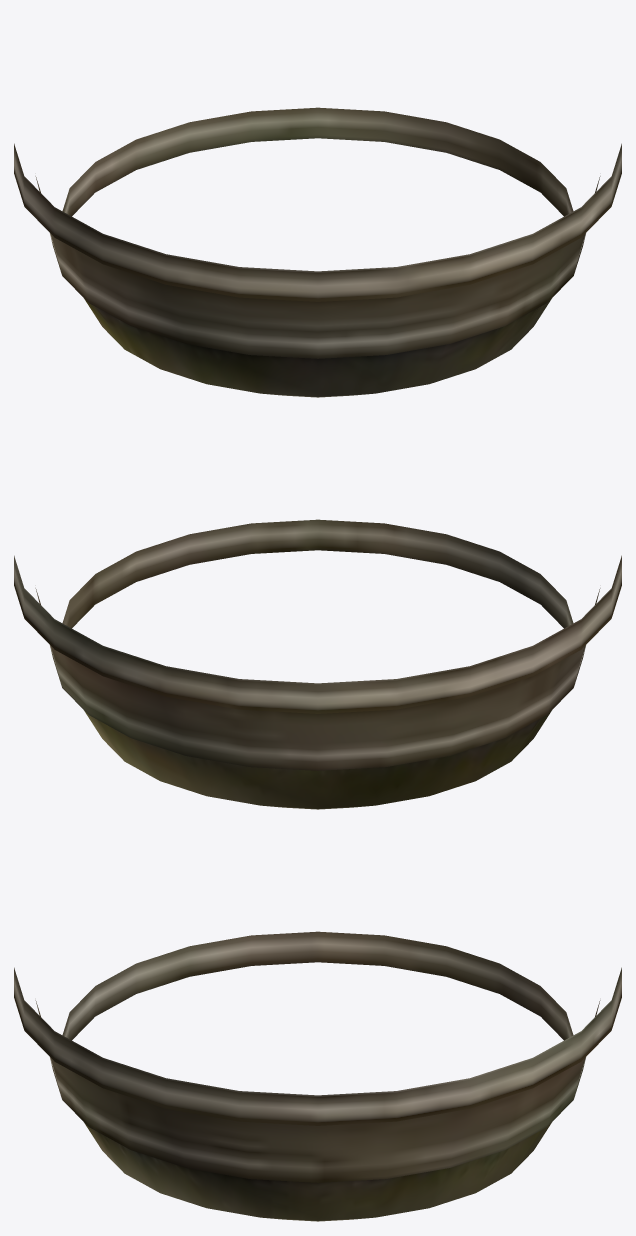
Rendered from light_domelight02_off.glb.
3 views of the same model, one above another, from view 1: azimuth 30°, elevation 25°; view 2: azimuth 150°, elevation 25°; view 3: azimuth 270°, elevation 25° (orthographic).
Visible parts, largest first — view 1: 0_light_domelight02_off; view 2: 0_light_domelight02_off; view 3: 0_light_domelight02_off.
Boxes of the visible parts, x1,y1,x2,y2 form: 0_light_domelight02_off: (14,107,621,397); 0_light_domelight02_off: (14,519,621,809); 0_light_domelight02_off: (14,931,621,1221).
Size of the model in its own units: 0.4572 by 0.1785 by 0.4572.
Materials: 1 (1 with a texture image).
